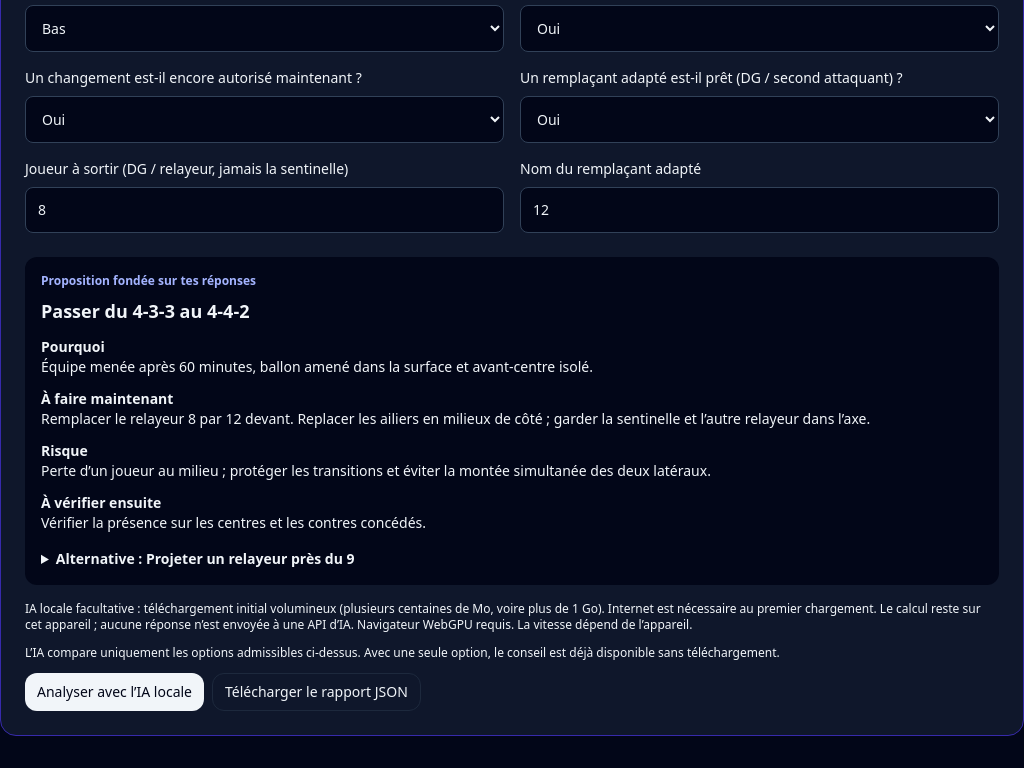
Test: local AI interface › does not download a model automatically and retains rules after GPU failure
(page scrolled)
What coordinates should you click on to do the following:
click the button "Analyser avec l’IA locale"
I would click on:
 (114, 692)
Its box is [25,673,204,711].
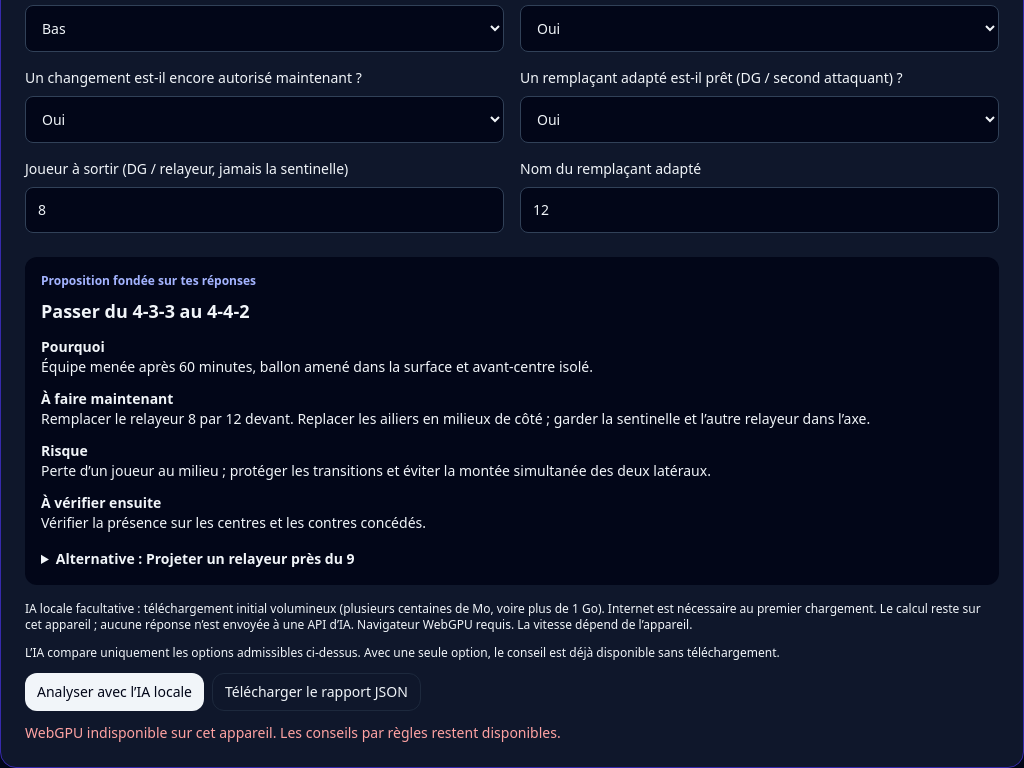
Expected: the heading "Passer du 4-3-3 au 4-4-2" is shown, [41,299,250,323]
Expected: the message shows "WebGPU indisponible", [25,723,276,742]
